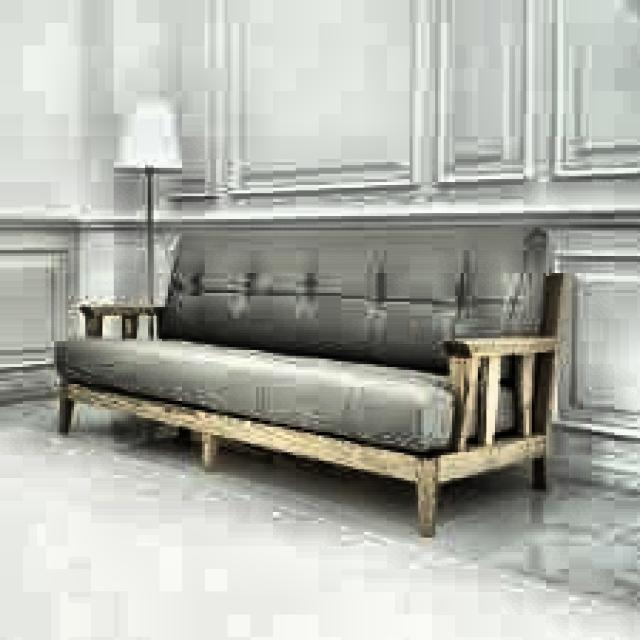sofa: (68, 225, 560, 523)
